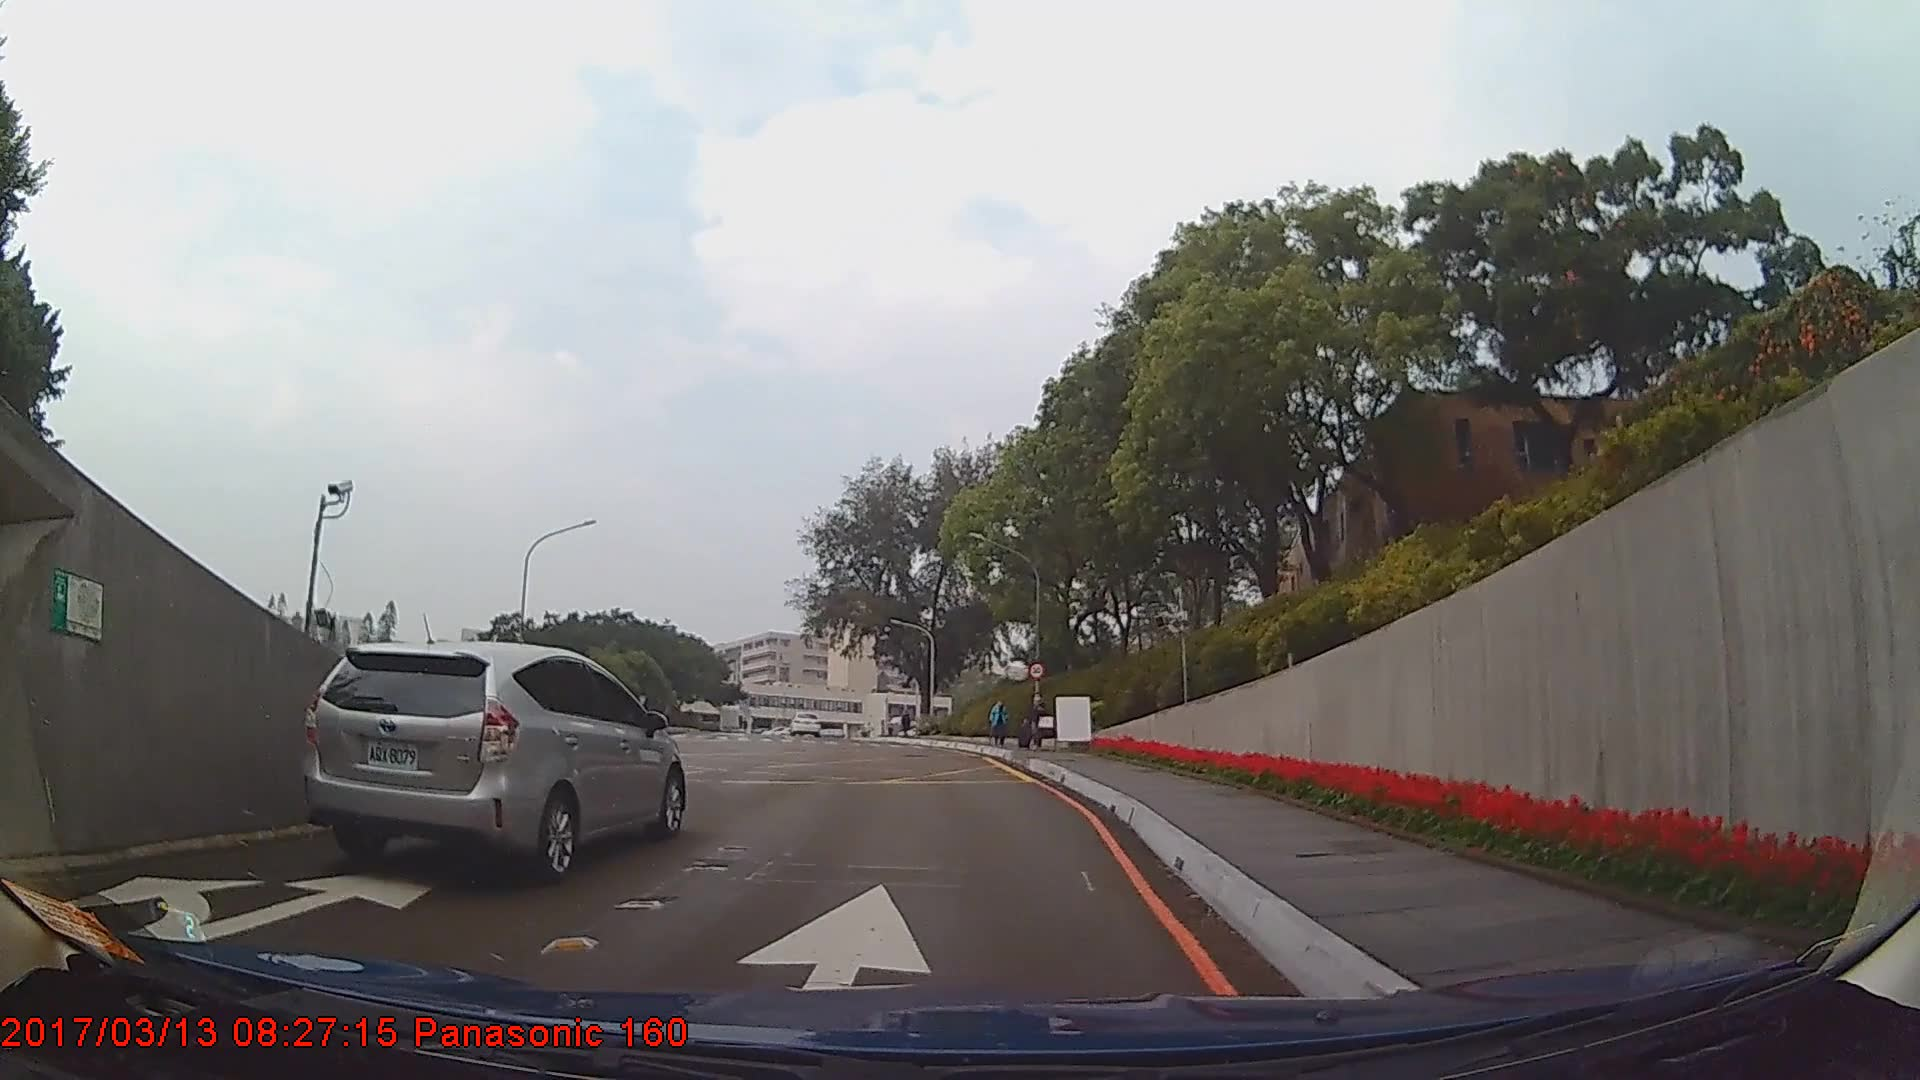pedestrian: (1017, 693, 1054, 751), (988, 698, 1009, 749)
vehicle: (297, 641, 684, 885), (790, 710, 822, 737)
